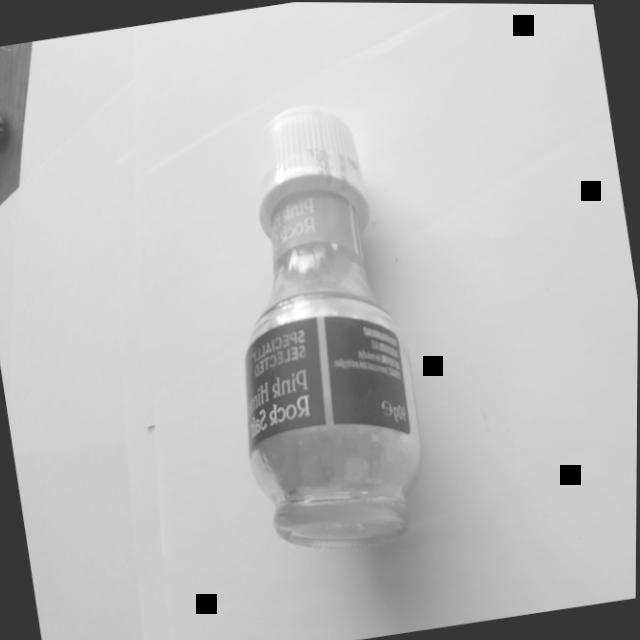Salt: (188, 86, 454, 582)
